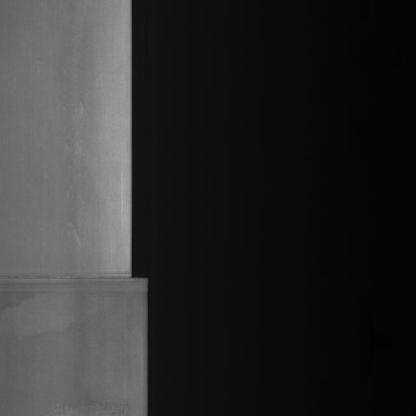welding_line: (2, 260, 160, 294)
